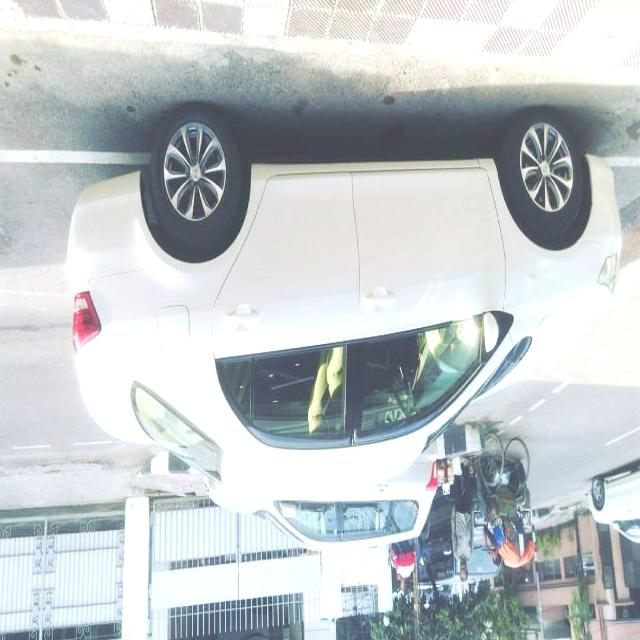silver: (206, 420, 447, 548)
white: (62, 79, 610, 469)
